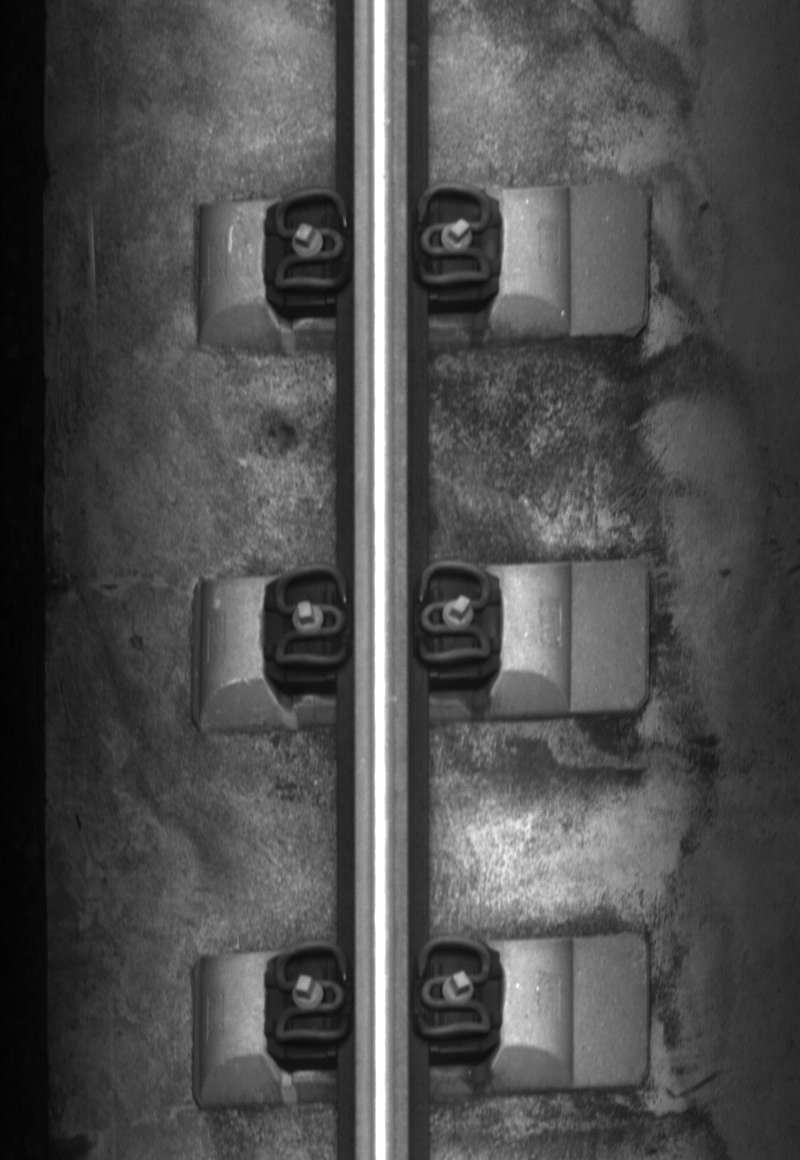l_faster: (268, 181, 352, 299), (267, 561, 352, 673), (270, 936, 352, 1050)
r_faster: (409, 933, 499, 1049), (412, 554, 495, 672), (412, 180, 496, 291)
